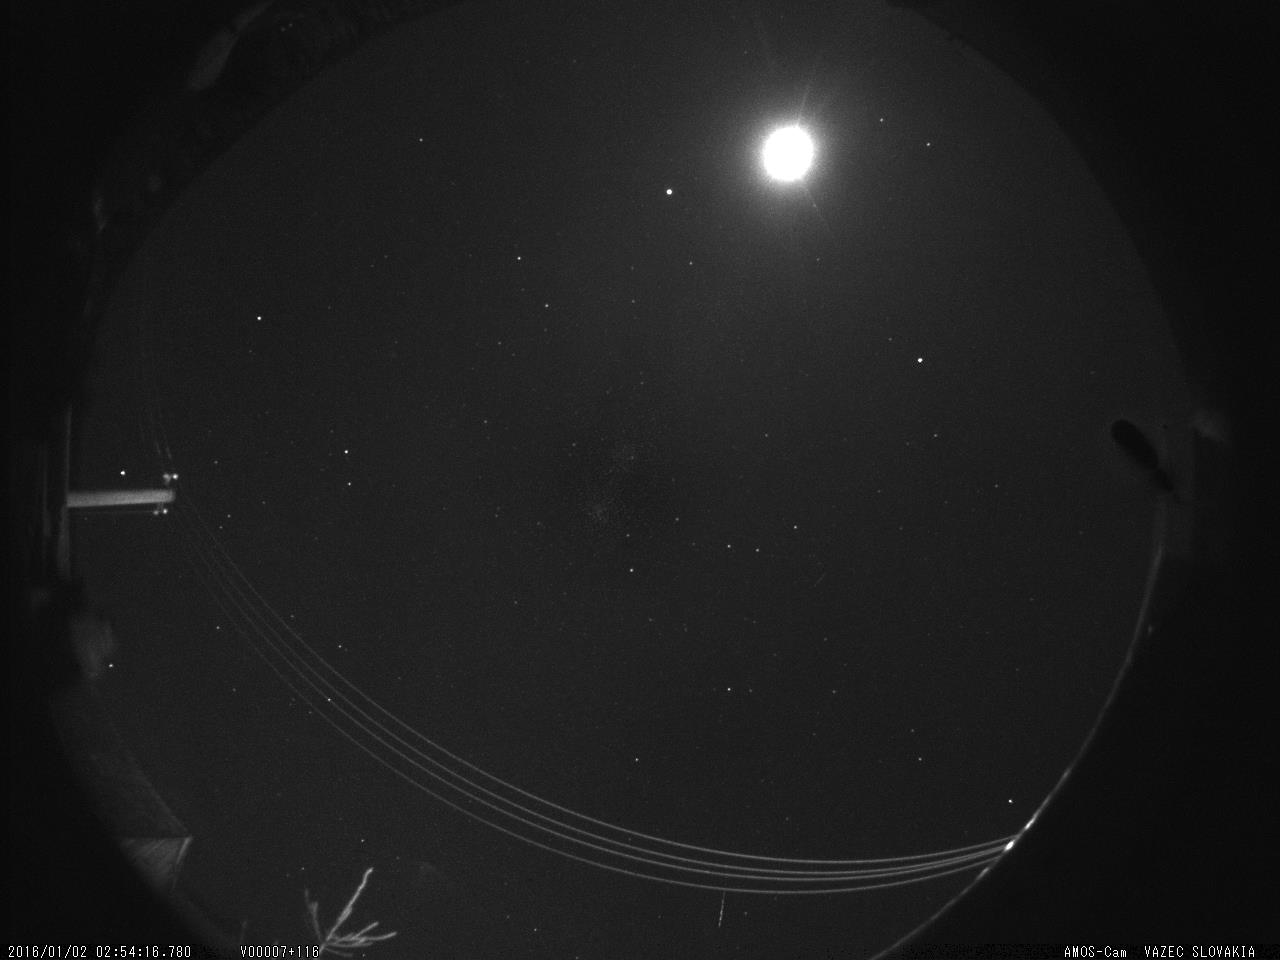meteor: (711, 892, 732, 936)
